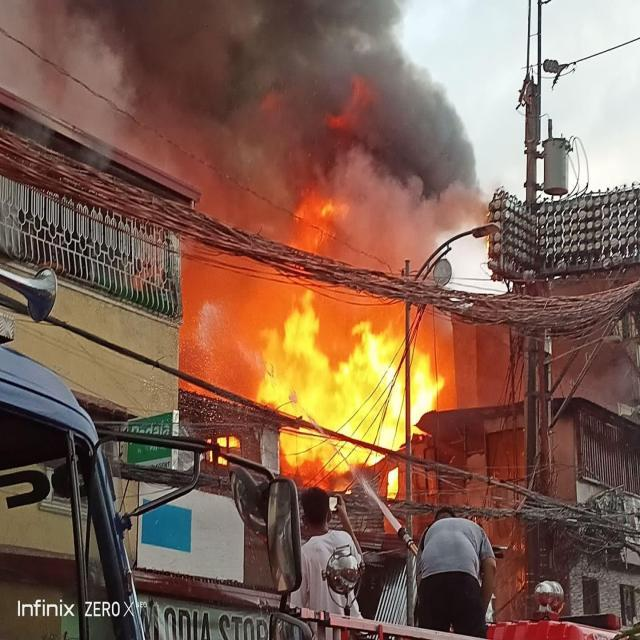Fire: (263, 289, 431, 458)
Smoke: (114, 0, 474, 193), (238, 198, 447, 252), (184, 255, 256, 372)
